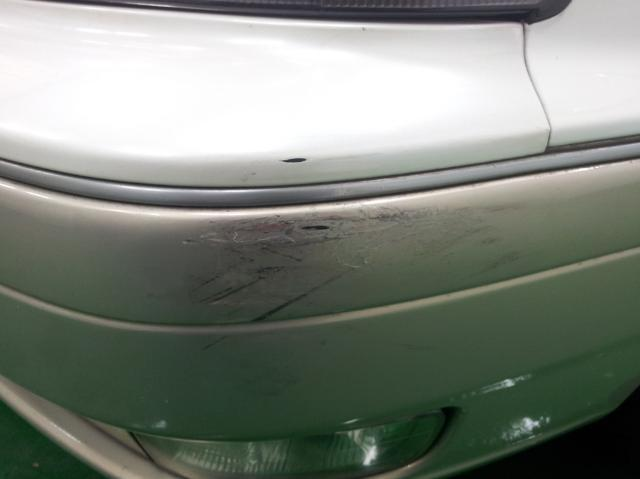Bumper: (129, 125, 568, 384)
